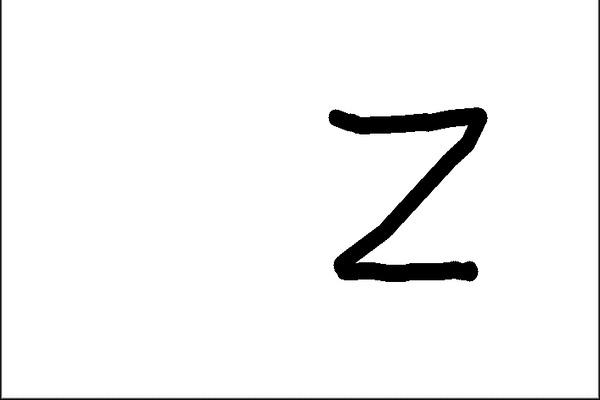Z: (321, 101, 497, 285)
